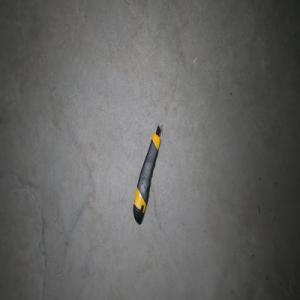Cutter: (132, 125, 162, 226)
